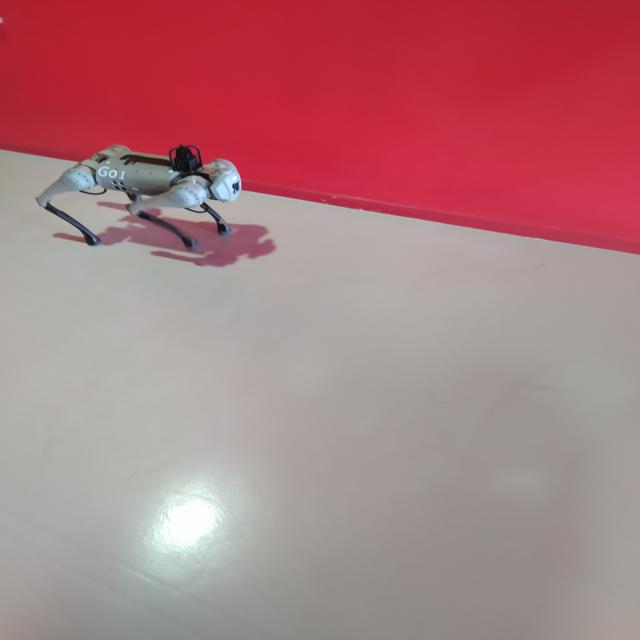unitree-go1-robot: (22, 134, 258, 262)
